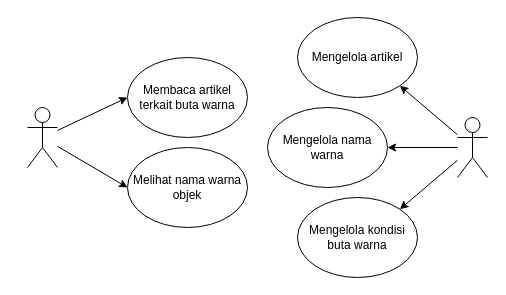
Image size: 506x295. Some labels were removed from this diagram. Here are the shapes that lost their labels. From the top down, the centre of each, then its label:
At (x=42, y=137): "End User".
At (x=472, y=147): "Admin".
